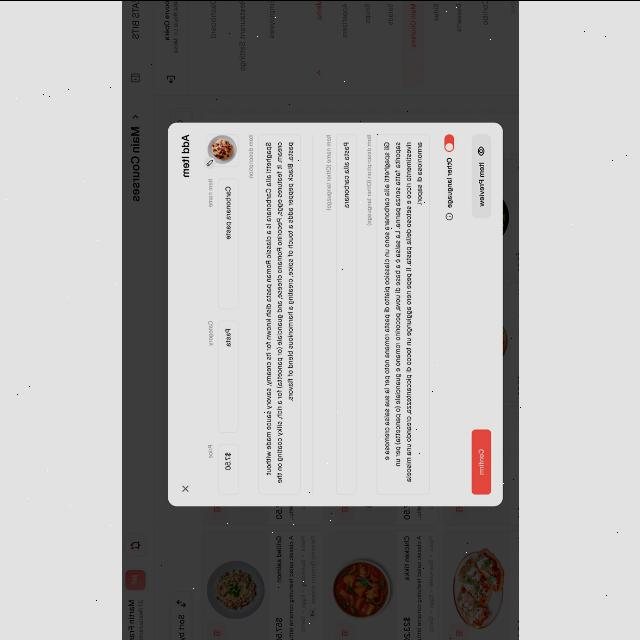QLabel: (324, 132, 332, 210), (365, 132, 371, 225), (180, 134, 190, 176), (445, 156, 453, 208), (477, 160, 485, 206), (247, 133, 253, 177), (477, 448, 485, 474), (206, 178, 212, 206), (207, 319, 213, 345), (206, 443, 212, 457)
VBtn: (471, 134, 491, 216), (471, 428, 492, 494)
VDialog: (165, 120, 502, 506)
VIcon: (476, 145, 484, 155), (180, 484, 188, 491), (444, 212, 452, 218)
VImg: (205, 133, 238, 167)
VSwitch: (443, 134, 453, 150)
VTextField: (334, 133, 356, 495), (216, 178, 238, 308), (216, 320, 238, 432), (216, 444, 238, 494)
VTextarea: (376, 133, 430, 495), (257, 132, 301, 494)
